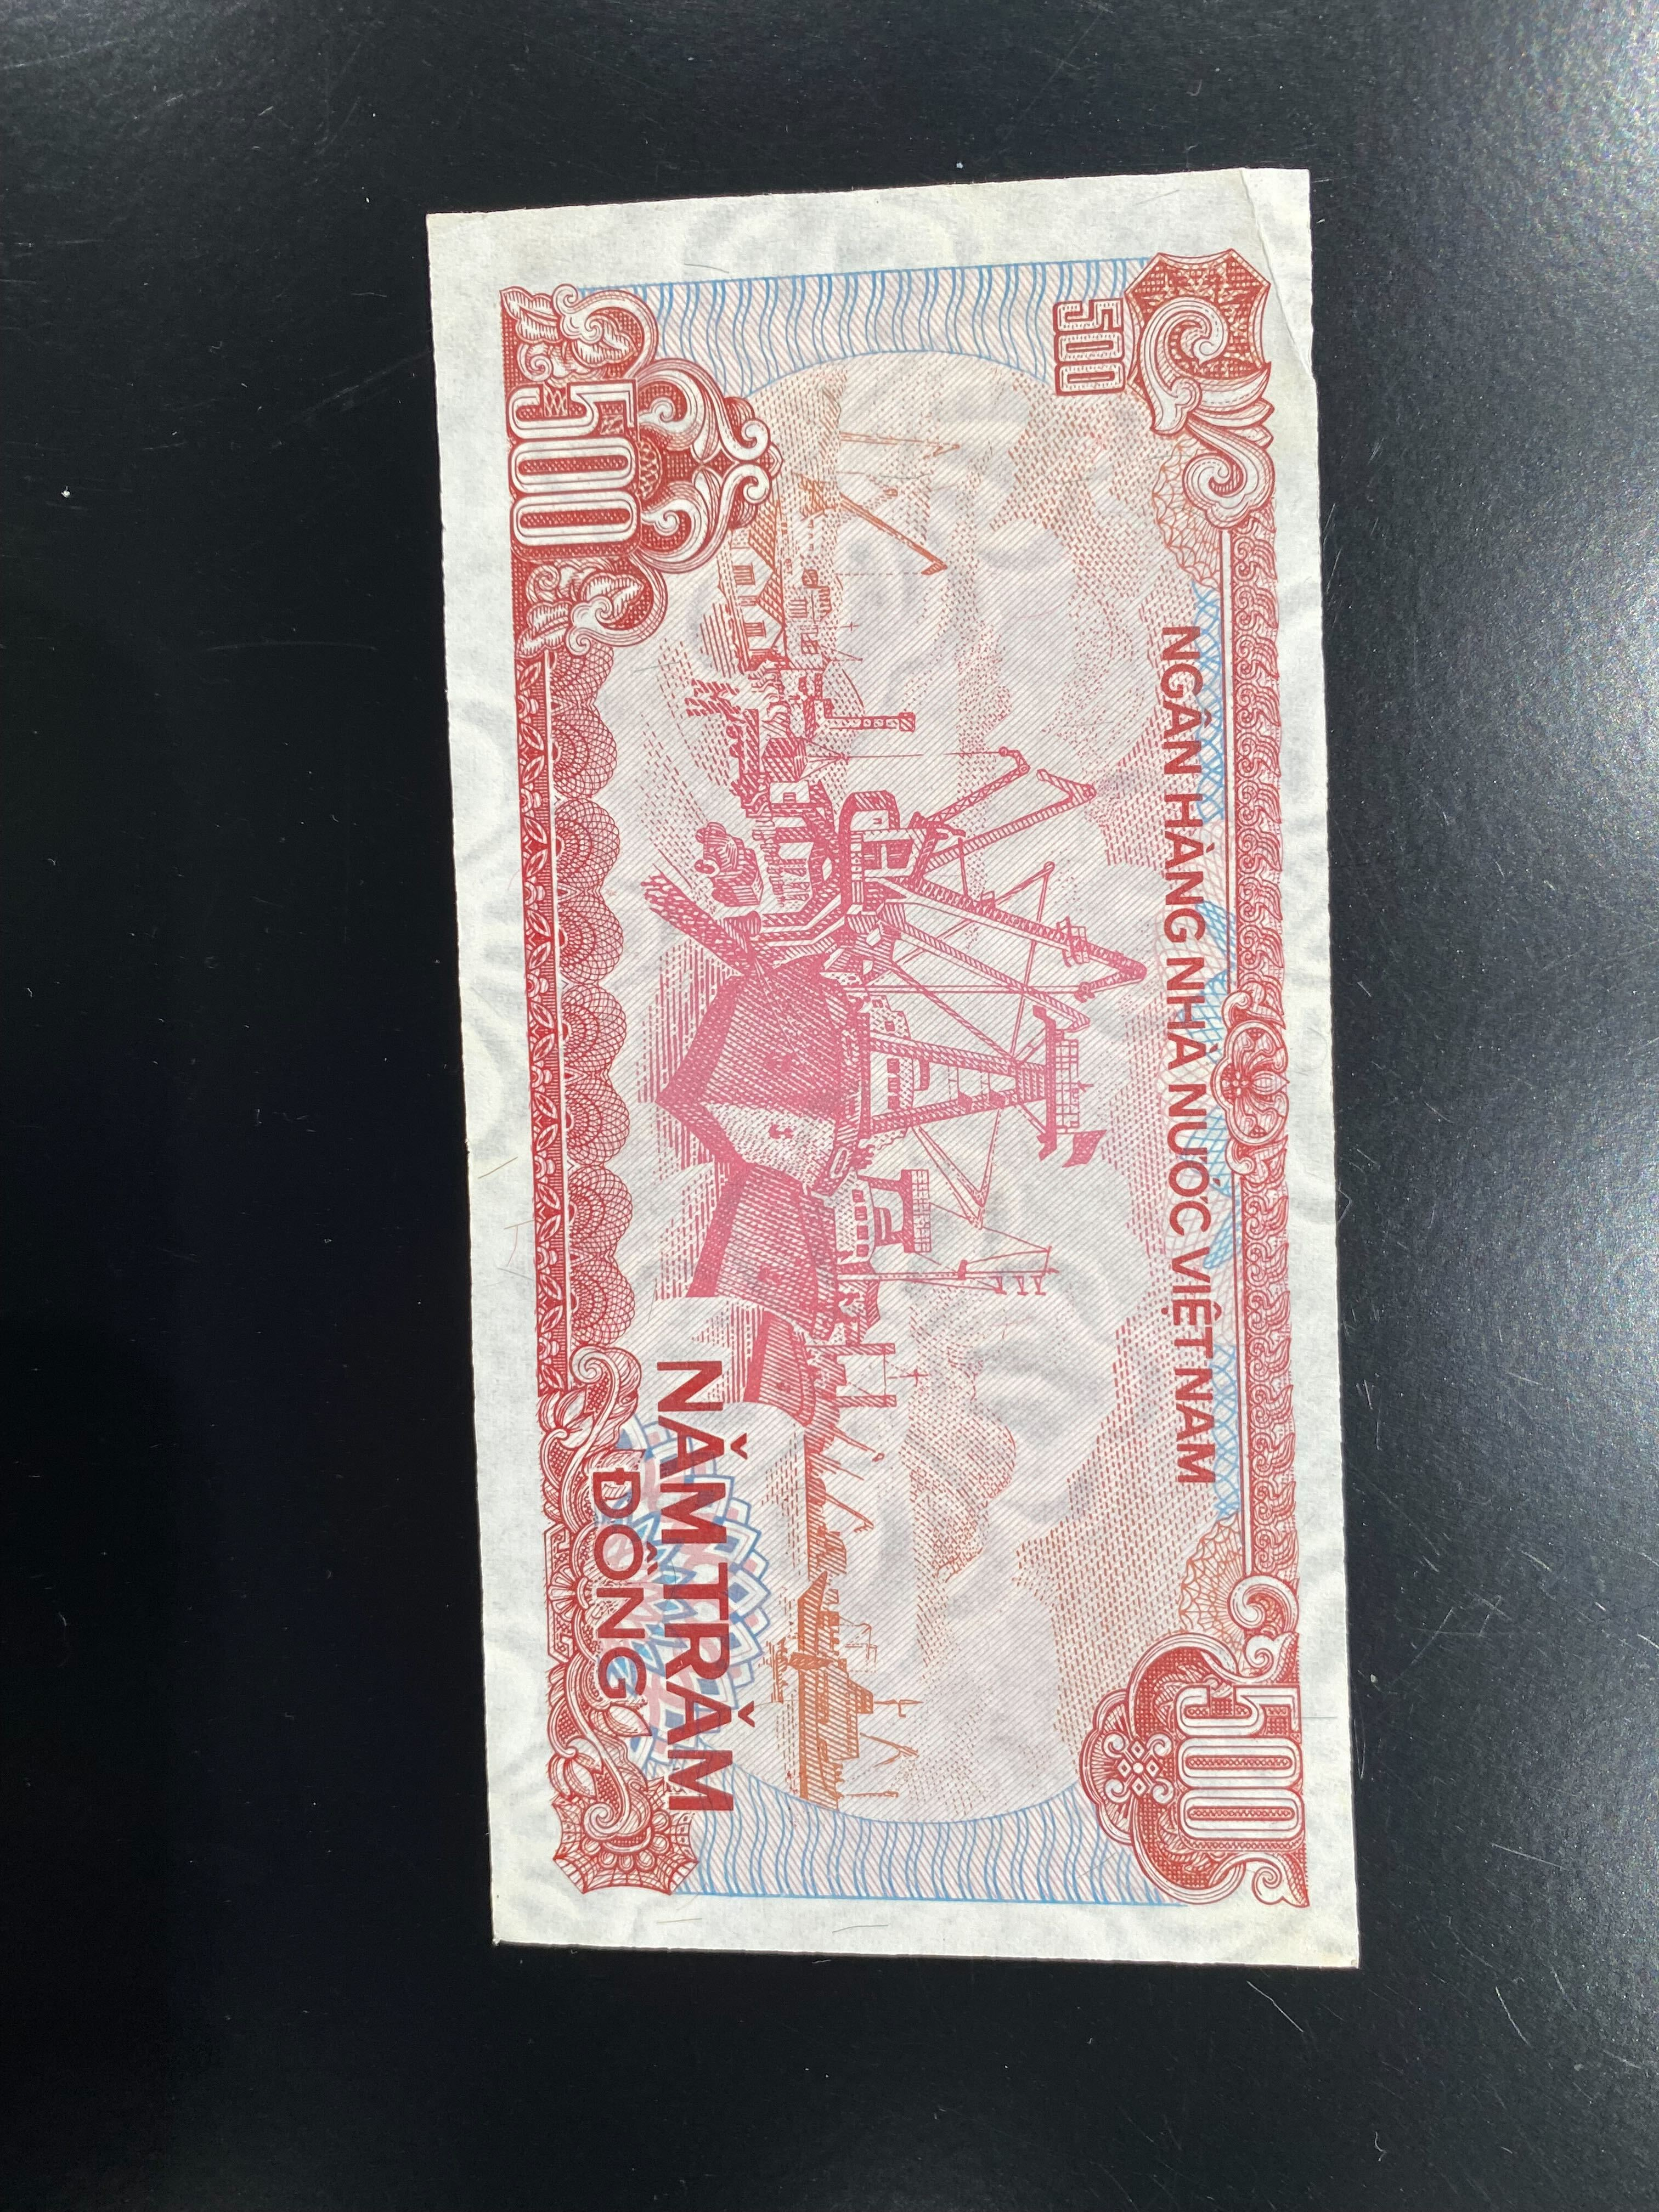500vnd: (425, 155, 1364, 1965)
